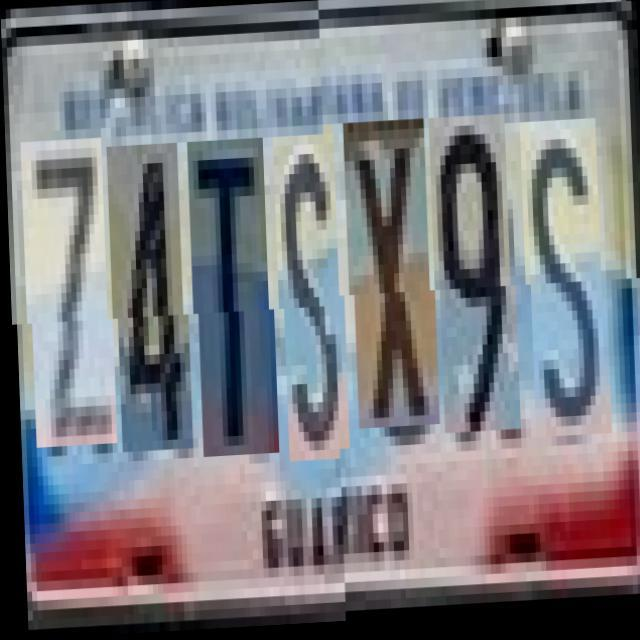4: (110, 144, 190, 453)
9: (432, 130, 518, 448)
S: (524, 134, 609, 453), (276, 137, 346, 465)
T: (191, 140, 276, 460)
X: (348, 133, 437, 442)
Z: (24, 138, 114, 448)
